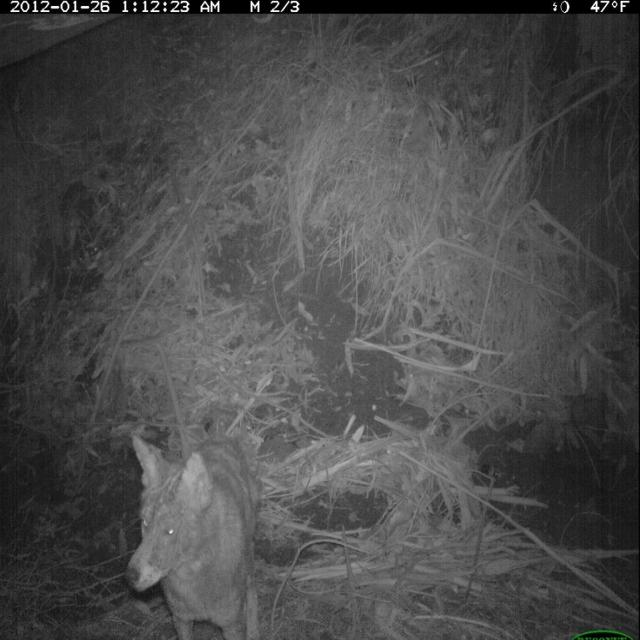coyote: (117, 417, 273, 640)
